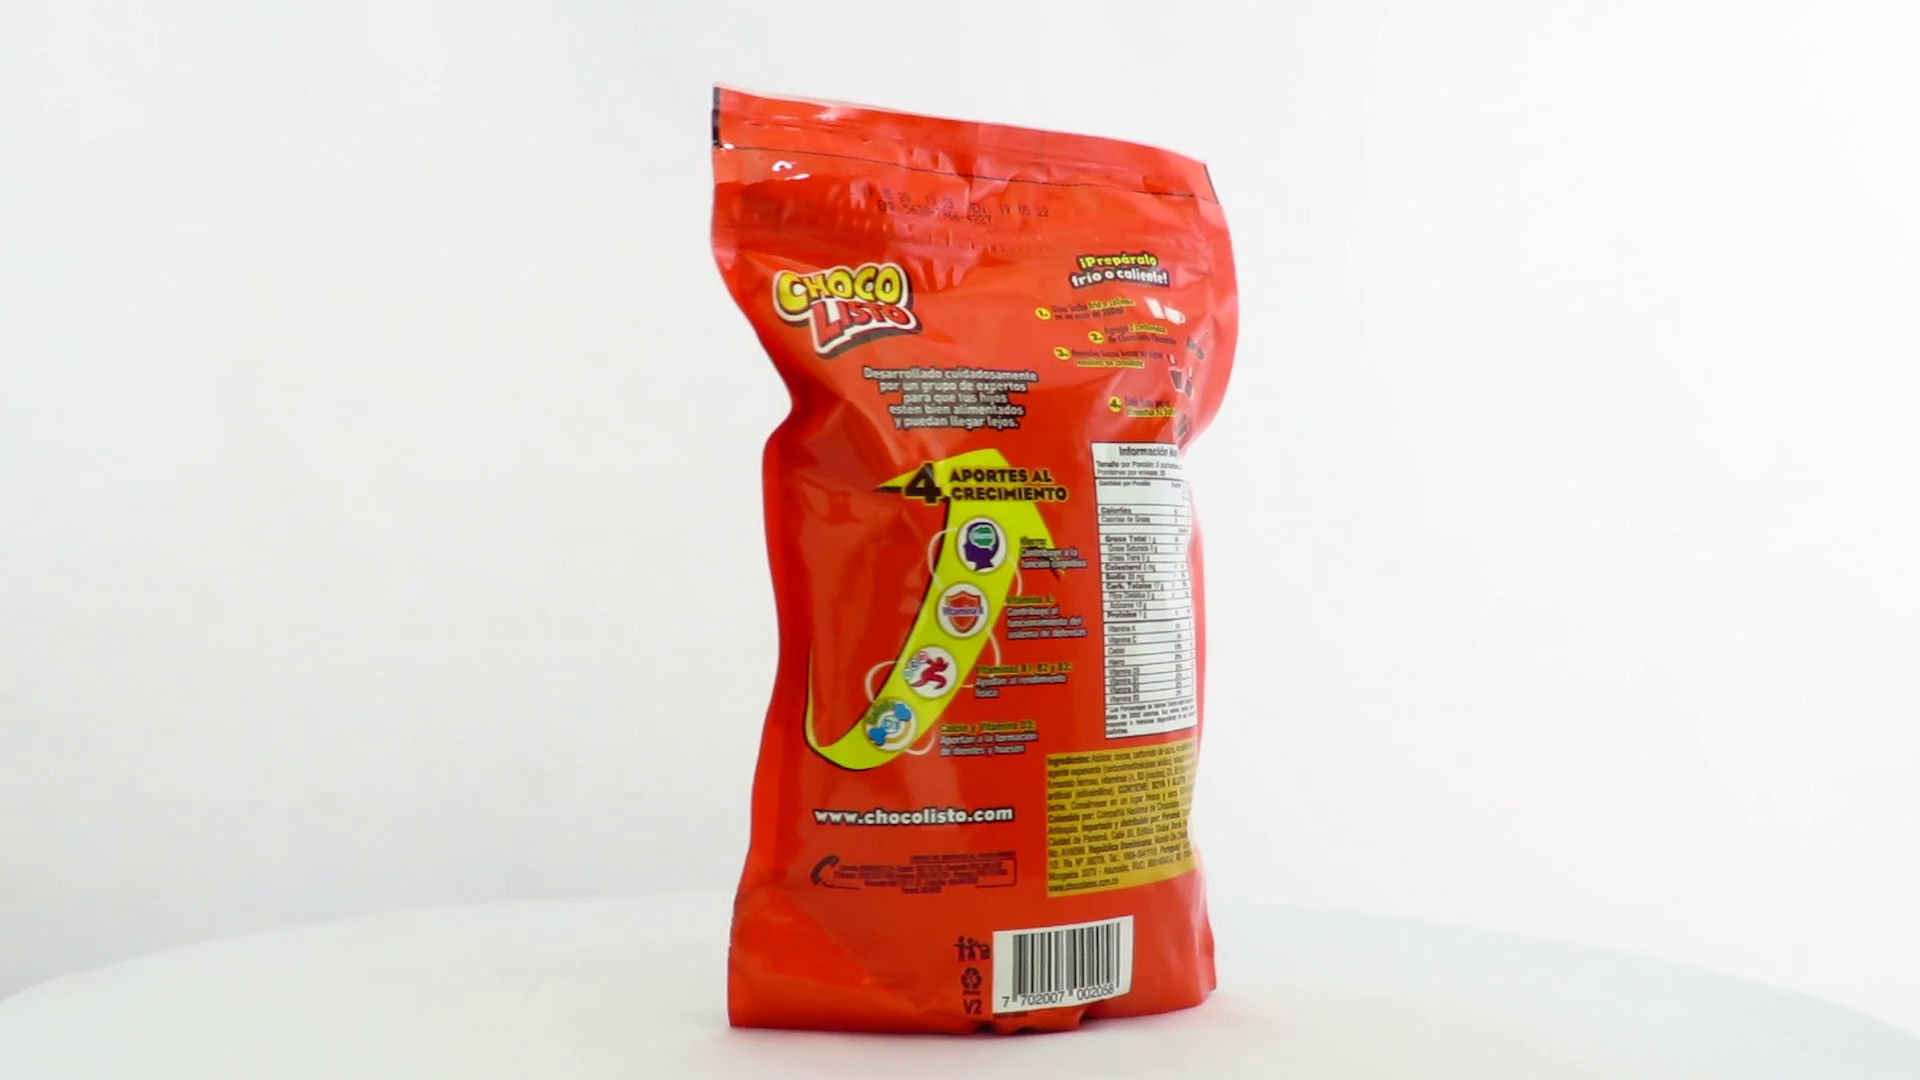COL0170103DYP40000: (705, 82, 1245, 1038)
